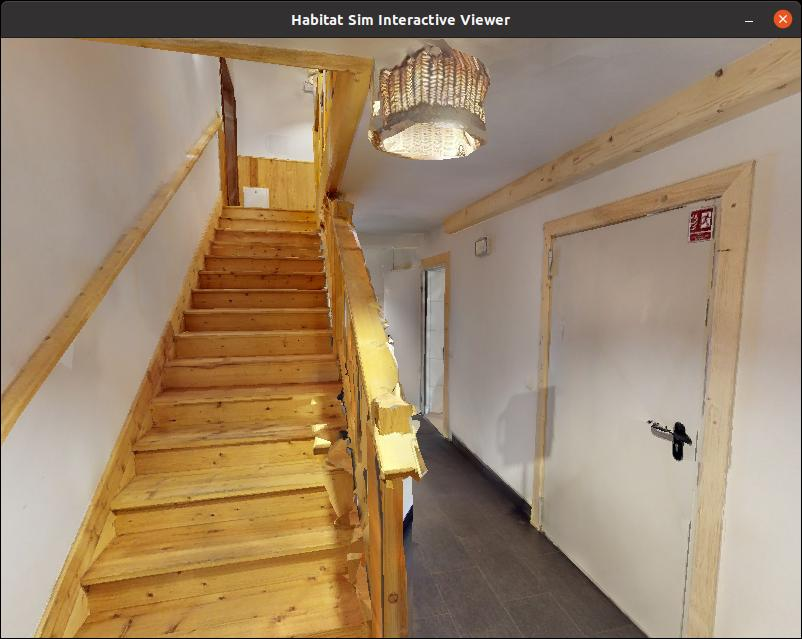door: (543, 199, 713, 631)
stairs: (65, 35, 378, 639)
